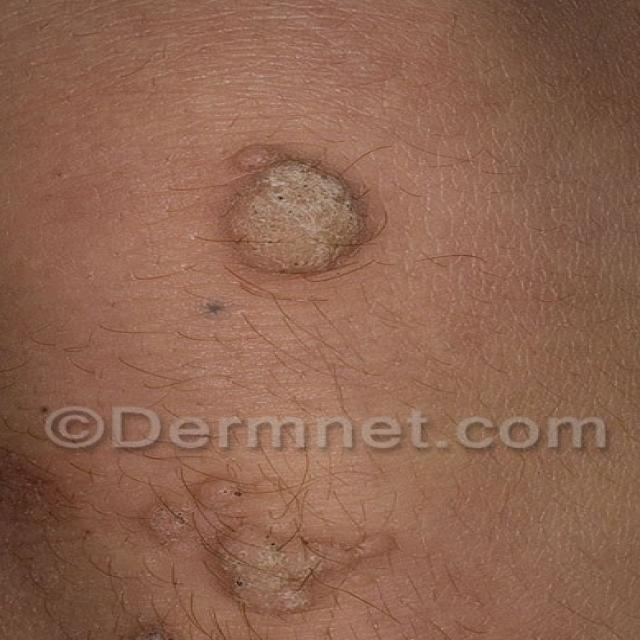Warts: (117, 450, 410, 640), (202, 109, 410, 306)
